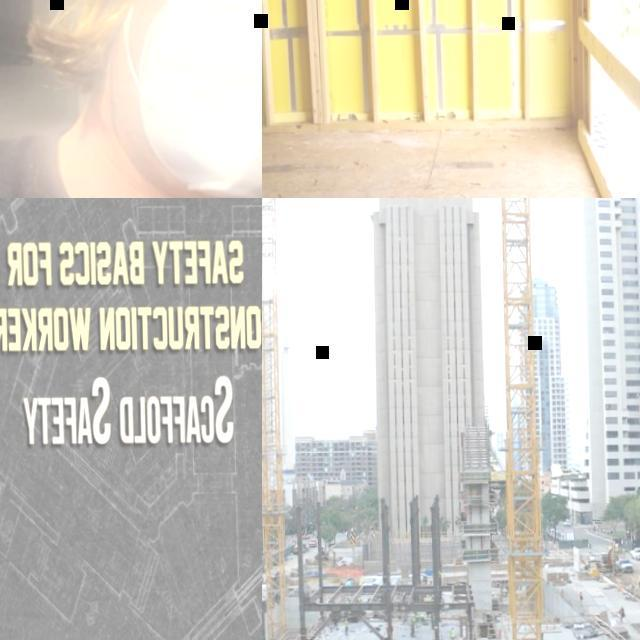helmet: (344, 618, 347, 620), (578, 589, 581, 591)
vest: (449, 628, 454, 636), (409, 618, 414, 624), (496, 630, 499, 636), (637, 575, 640, 580), (344, 620, 346, 626)
